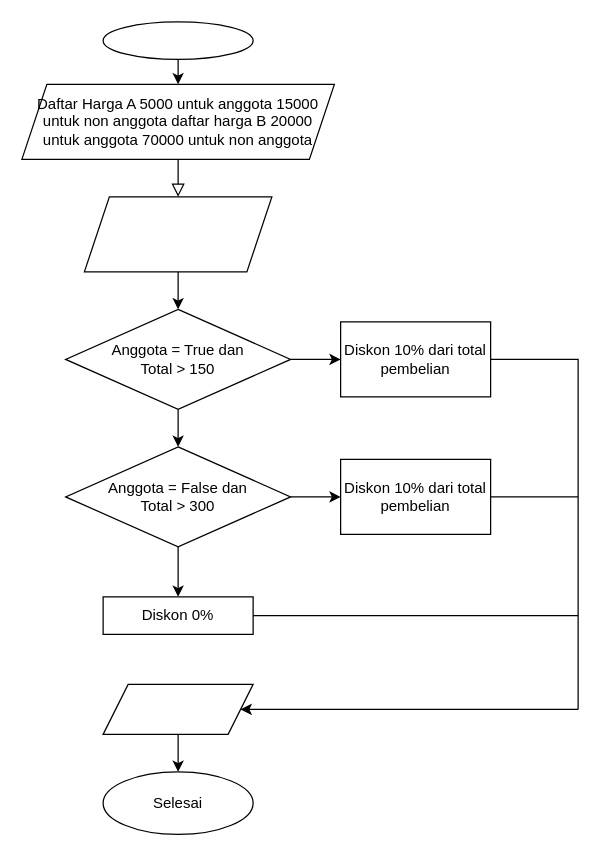
This 610x856 diagram has some shape labels left out. The shapes that lost their labels are listed below. From the top down, each one's centre as x and y in pixels, then its label:
(x=177, y=40): Mulai
(x=177, y=234): Status Anggota = True Non Anggota = False
(x=177, y=708): Print Hasil
